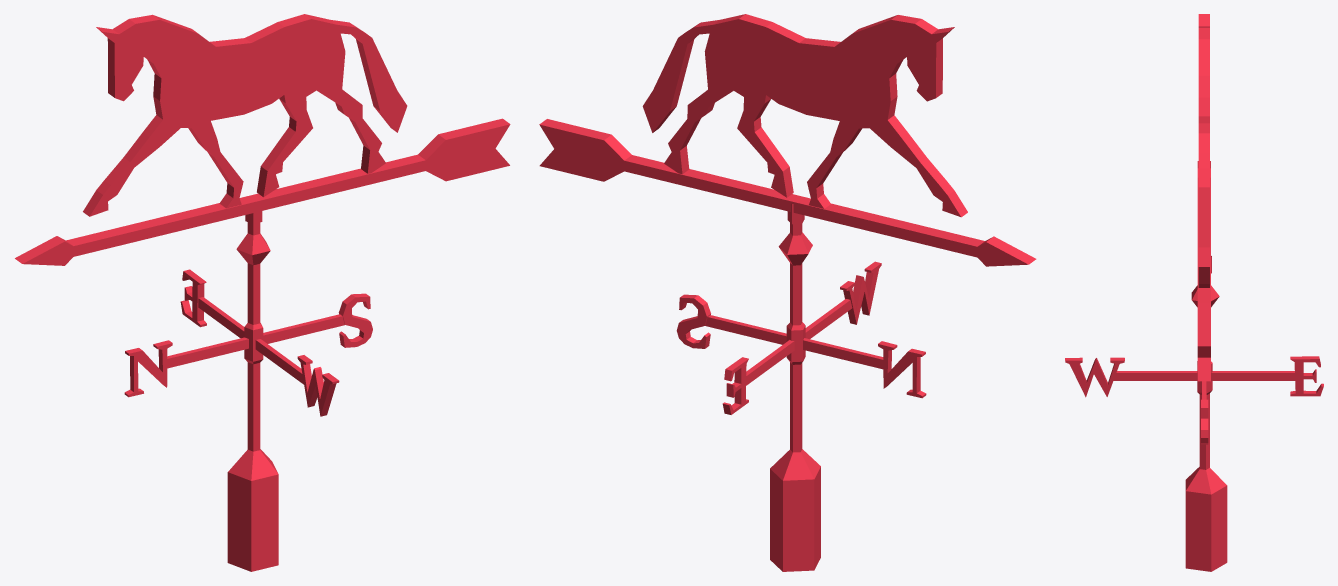
File: SM_Weather_Vane_B.fbx
3 views of the same model, side by side, from view 1: azimuth 30°, elevation 25°; view 2: azimuth 150°, elevation 25°; view 3: azimuth 270°, elevation 25° (orthographic). The views are drawn at different scales.
Visible parts, largest first — view 1: weather-vane-b-top, weather-vane-b-base; view 2: weather-vane-b-top, weather-vane-b-base; view 3: weather-vane-b-base, weather-vane-b-top.
Part boxes in pixels (bbox=[...]): weather-vane-b-top: bbox=[15, 14, 510, 265]; weather-vane-b-base: bbox=[124, 222, 372, 571]; weather-vane-b-top: bbox=[539, 14, 1036, 266]; weather-vane-b-base: bbox=[676, 223, 926, 571]; weather-vane-b-base: bbox=[1065, 285, 1323, 571]; weather-vane-b-top: bbox=[1197, 14, 1211, 381].
Size of the model in its own units: 1.18 by 1.31 by 0.6355.
